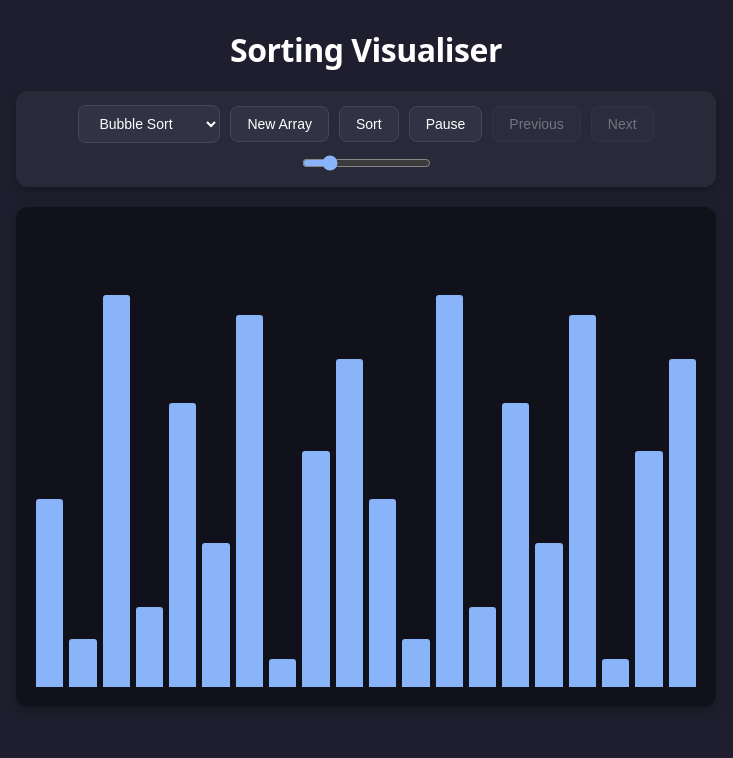
Test case: Sort button › shows the stats starting from the first comparison
This screenshot has width=733, height=758.
Click the button "Sort": (369, 124) [339,106,399,142]
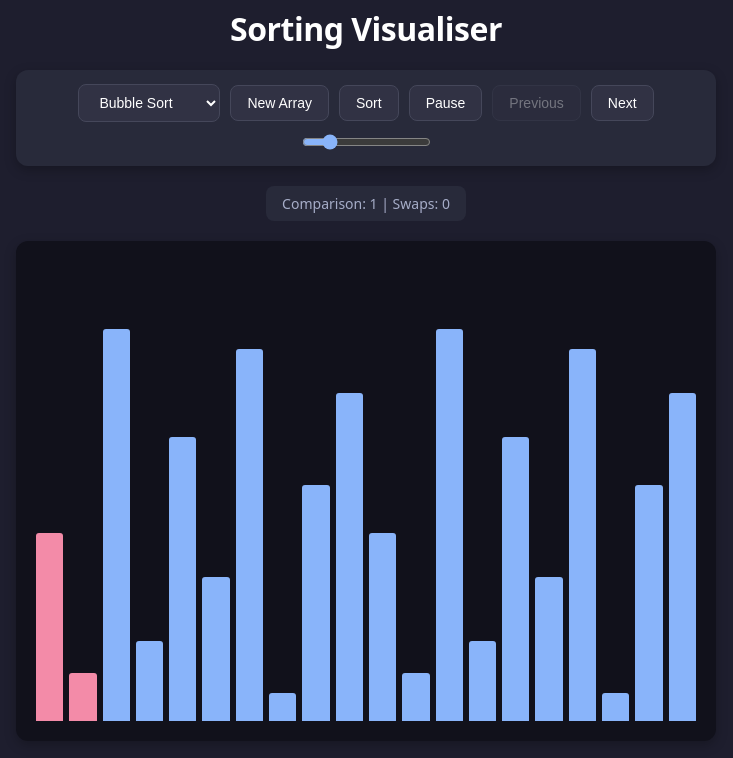
Check: the text with class "stats" reads "Comparison: 1 | Swaps: 0", box [266,186,466,221]
